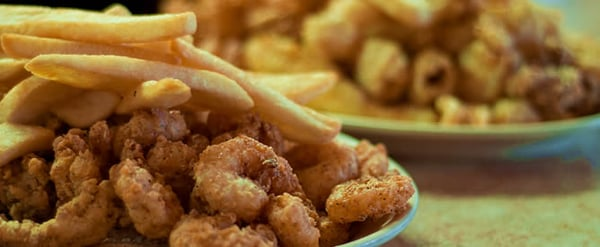curry: (6, 0, 599, 244)
salad: (408, 46, 459, 106)
